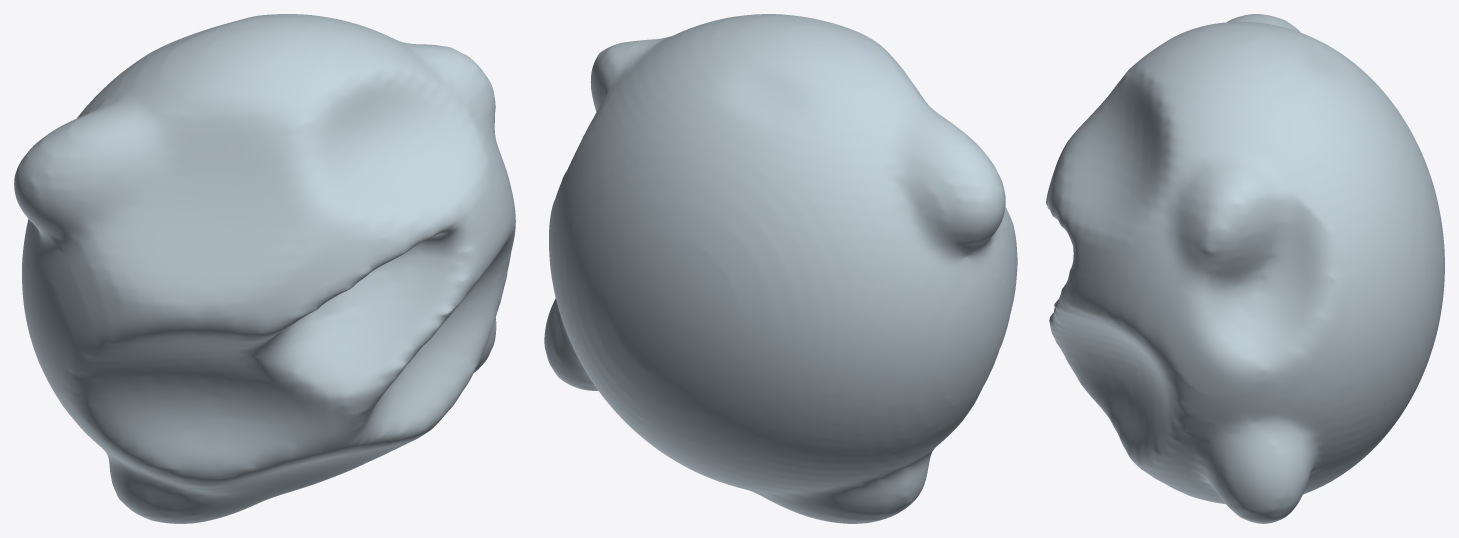
File: glass-orb.glb
The picture shows the model from 3 angles, left to right: view 1: azimuth 30°, elevation 25°; view 2: azimuth 150°, elevation 25°; view 3: azimuth 270°, elevation 25°; orthographic projection. The views are drawn at different scales.
Visible parts, largest first — view 1: Blob_Glass; view 2: Blob_Glass; view 3: Blob_Glass.
Boxes of the visible parts, bbox=[...] form: Blob_Glass: bbox=[14, 14, 515, 523]; Blob_Glass: bbox=[544, 14, 1017, 523]; Blob_Glass: bbox=[1046, 14, 1444, 523].
Bounding box in the file's own units: 1.56 × 1.52 × 1.2.
